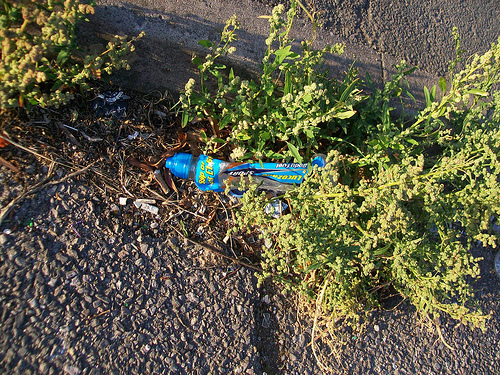litter: (165, 153, 327, 201)
